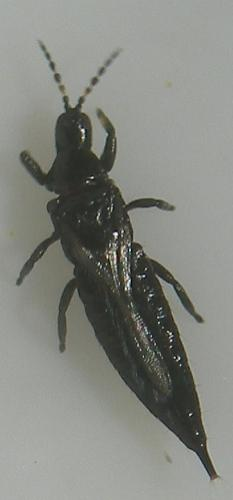Phlaeothripidae: (17, 39, 230, 497)
